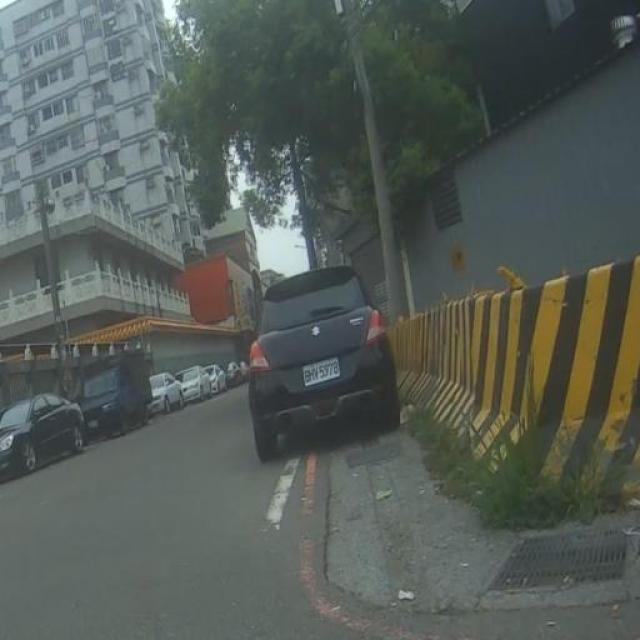Legalparking: (0, 347, 236, 510), (240, 254, 415, 472)
